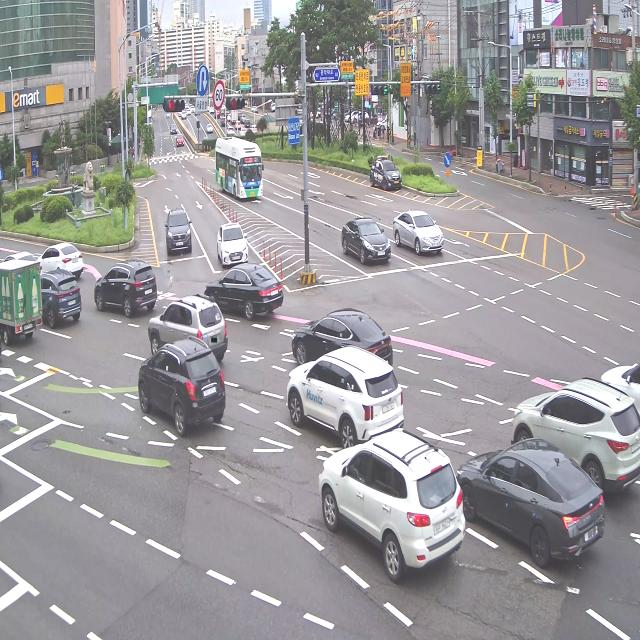Bus: (208, 133, 269, 204)
Car: (456, 418, 610, 578), (322, 420, 467, 582), (281, 325, 414, 445), (120, 317, 232, 449), (146, 296, 230, 356), (333, 202, 392, 278), (92, 253, 158, 319), (204, 264, 286, 317), (393, 202, 448, 264), (36, 266, 84, 331), (34, 234, 84, 285), (217, 218, 258, 268), (160, 210, 196, 264), (371, 147, 406, 195)
Truck: (0, 250, 41, 364)
